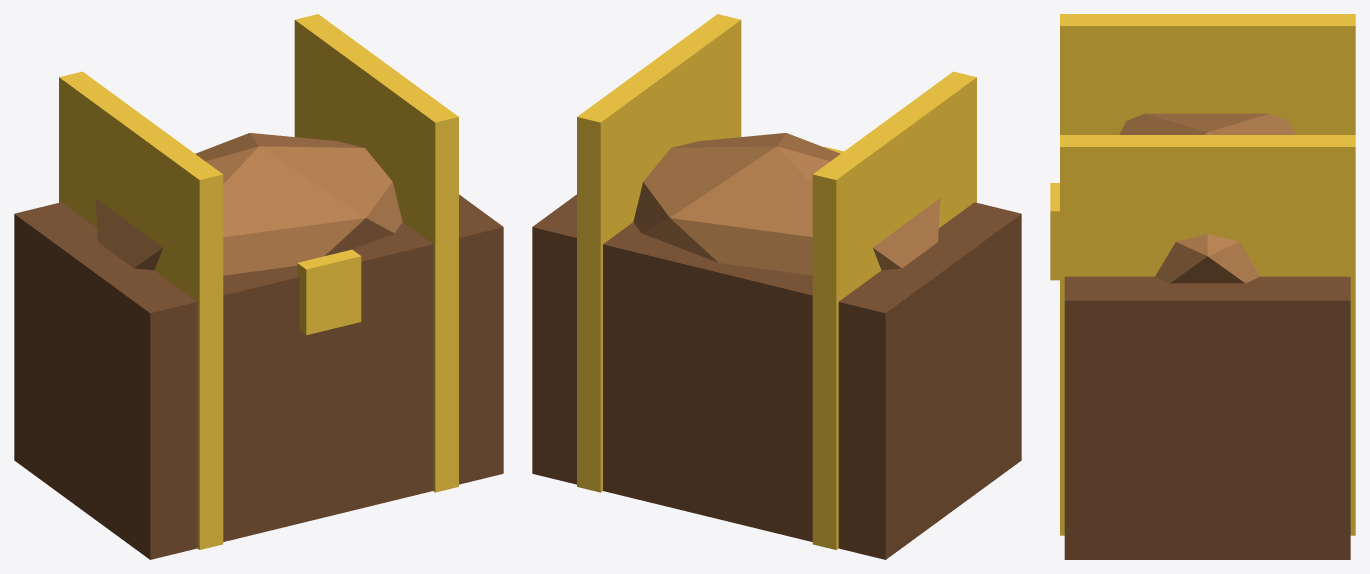
The model's file is treasure_chest.glb.
The picture shows the model from 3 angles, left to right: view 1: azimuth 30°, elevation 25°; view 2: azimuth 150°, elevation 25°; view 3: azimuth 270°, elevation 25°; orthographic projection. The views are drawn at different scales.
Visible parts, largest first — view 1: treasure_chest; view 2: treasure_chest; view 3: treasure_chest.
Part boxes in pixels (x1,y1,x2,y2): treasure_chest: [14, 14, 503, 559]; treasure_chest: [532, 14, 1021, 559]; treasure_chest: [1050, 14, 1355, 559].
Bounding box in the file's own units: 0.9 × 0.9 × 0.64.
